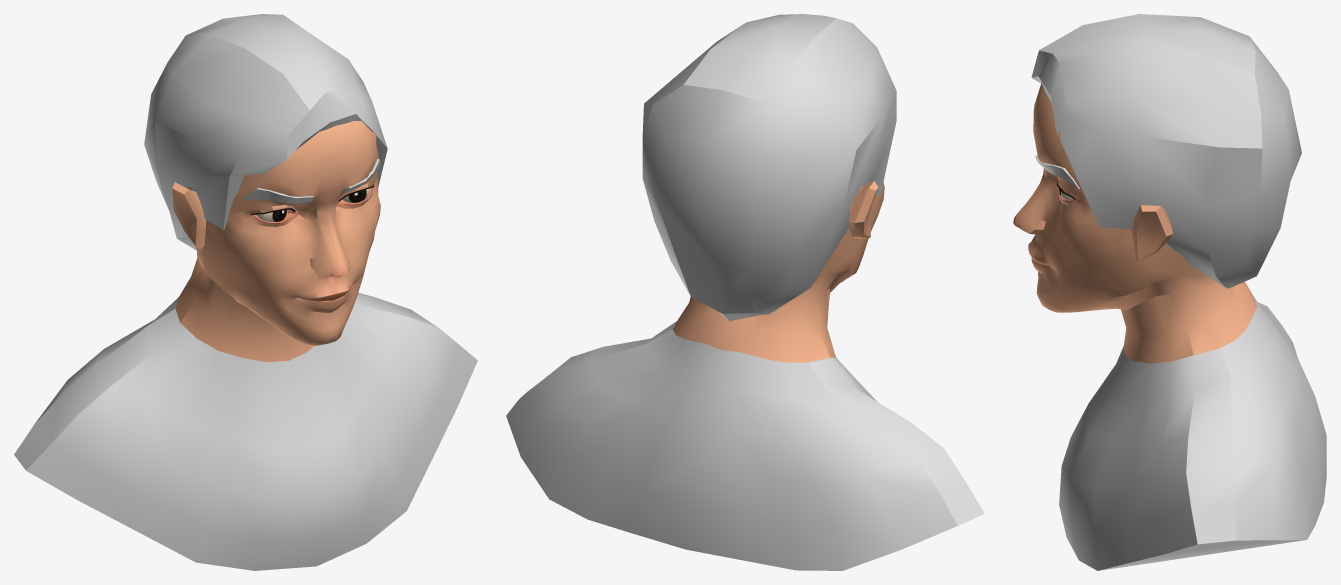
Rendered from Male_Avatar_3_New.fbx.
3 renders of one model, left to right at view 1: azimuth 30°, elevation 25°; view 2: azimuth 150°, elevation 25°; view 3: azimuth 270°, elevation 25°, orthographic. The views are drawn at different scales.
Visible parts, largest first — view 1: Shirt, Male Head.002, Hair; view 2: Shirt, Hair, Male Head.002; view 3: Shirt, Hair, Male Head.002.
Boxes of the visible parts, x1,y1,x2,y2 form: Shirt: (14,292,477,570); Male Head.002: (172,121,380,362); Hair: (144,14,387,250); Shirt: (506,321,984,570); Hair: (642,14,896,321); Male Head.002: (672,181,884,362); Shirt: (1059,298,1326,570); Hair: (1031,14,1301,288); Male Head.002: (1013,83,1257,363).
Size of the model in its own units: 46.33 by 49.28 by 27.46.
1 material, 1 textured.
